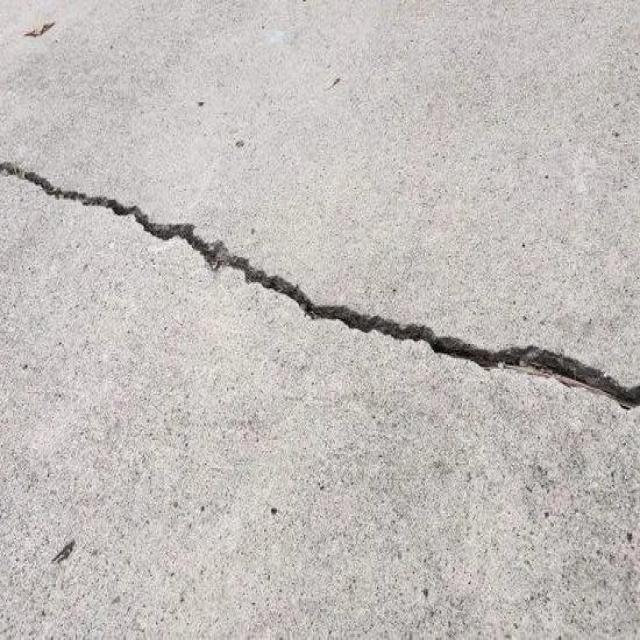Pothole: (0, 161, 639, 429)
